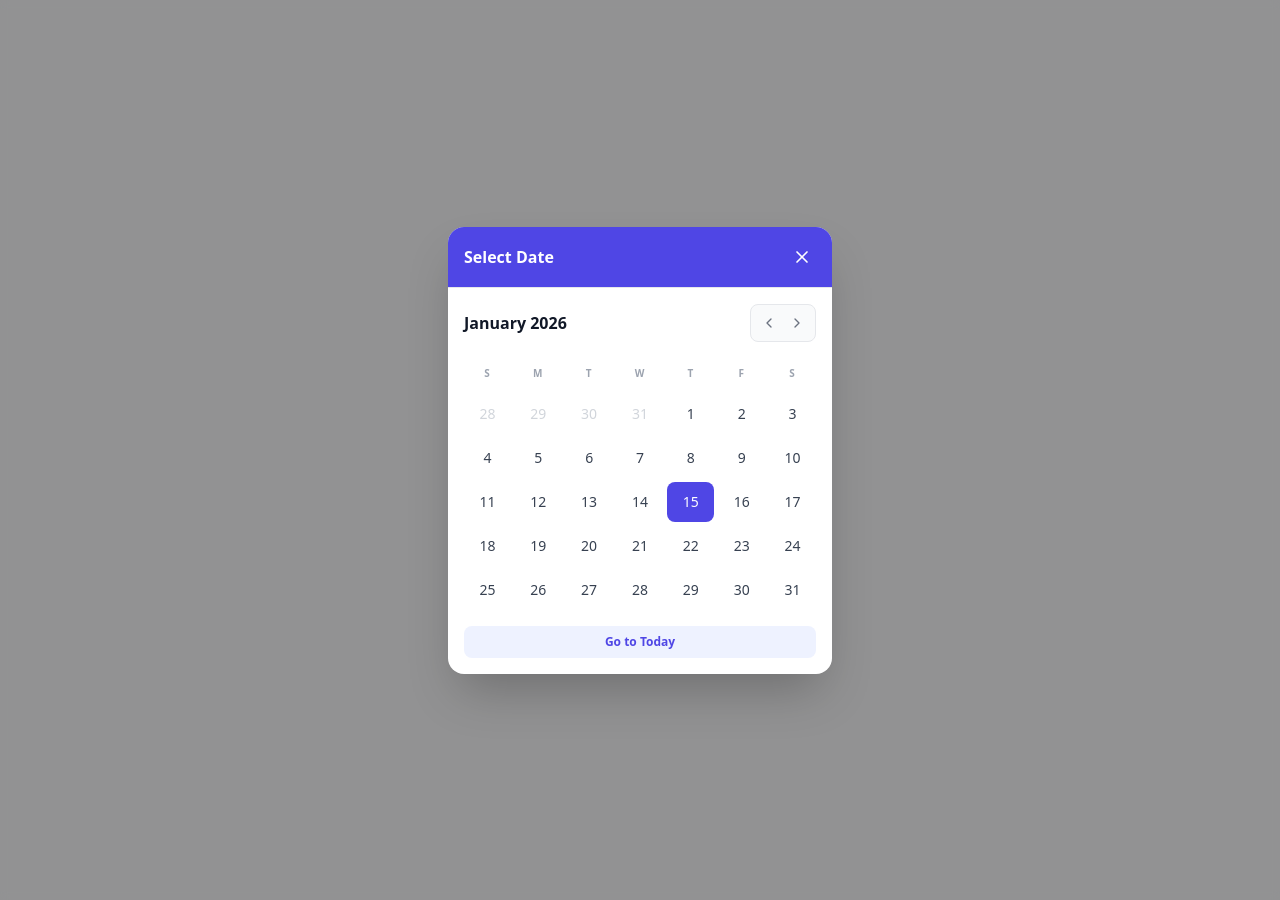
Test case: DatePicker › navigates to next month
Click the button titled "Next Month" at (797,322), box left=783, top=308, right=811, bottom=336
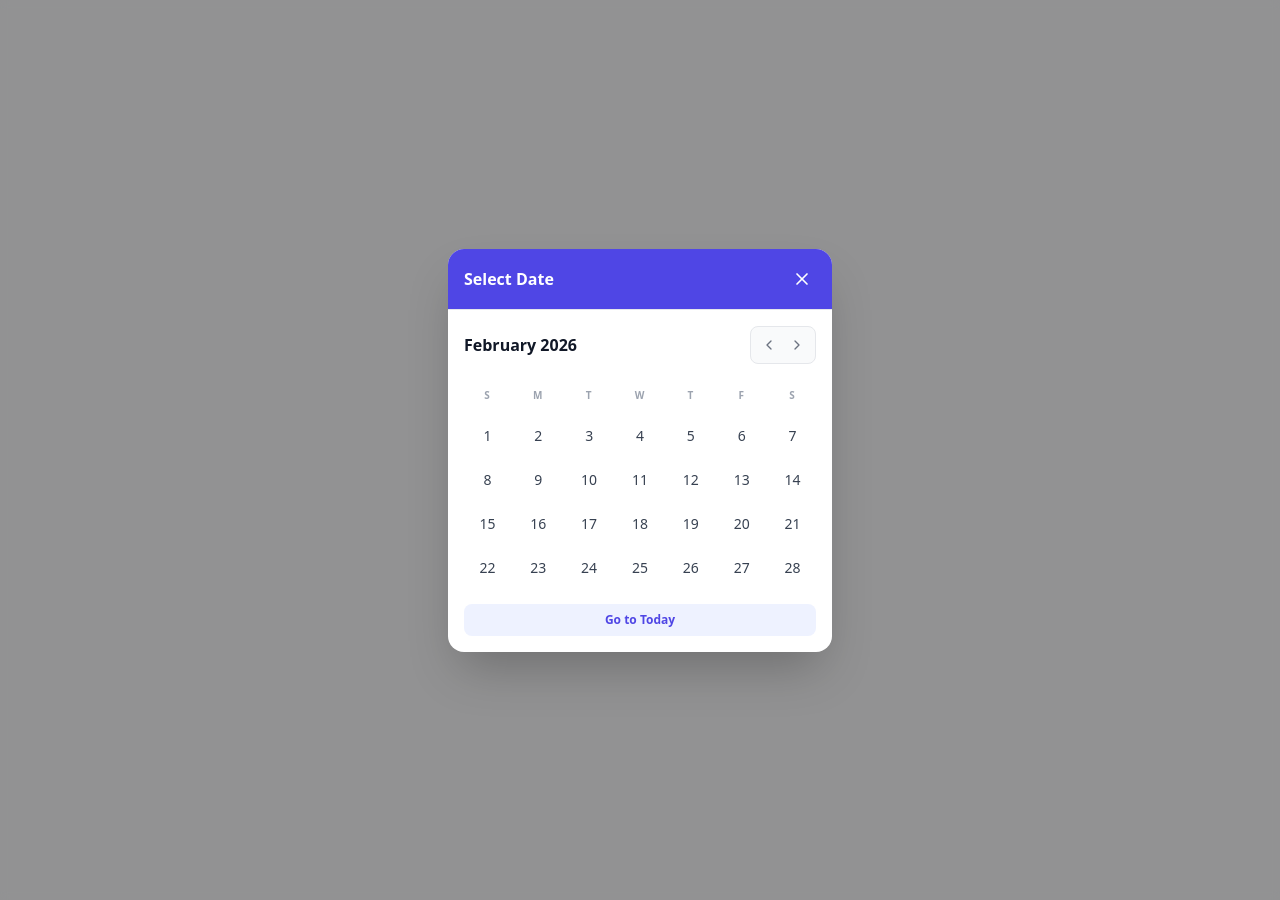
Now the text "February 2026" is shown, box left=464, top=332, right=577, bottom=356
